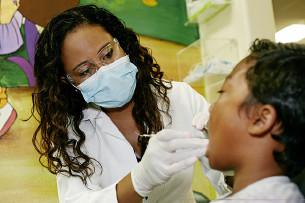NONE: (206, 88, 269, 162)
OK: (72, 42, 139, 109)
